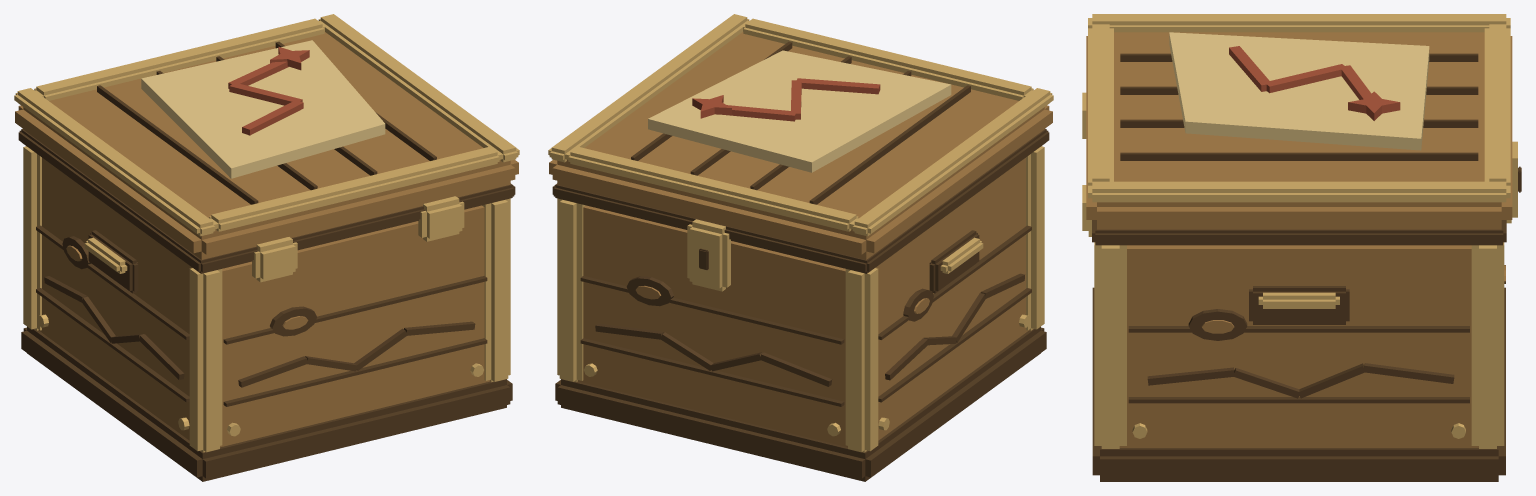
The model's file is crate_aventureiro.fbx.
The picture shows the model from 3 angles, left to right: view 1: azimuth 30°, elevation 25°; view 2: azimuth 150°, elevation 25°; view 3: azimuth 270°, elevation 25°; orthographic projection. The views are drawn at different scales.
Visible parts, largest first — view 1: crate_aventureiro_caixa; view 2: crate_aventureiro_caixa; view 3: crate_aventureiro_caixa.
Part boxes in pixels (x1,y1,x2,y2): crate_aventureiro_caixa: [14, 14, 519, 481]; crate_aventureiro_caixa: [548, 14, 1053, 481]; crate_aventureiro_caixa: [1082, 14, 1521, 481].
Bounding box in the file's own units: 2.68 × 2.22 × 2.7.
Materials: 1 (1 with a texture image).
